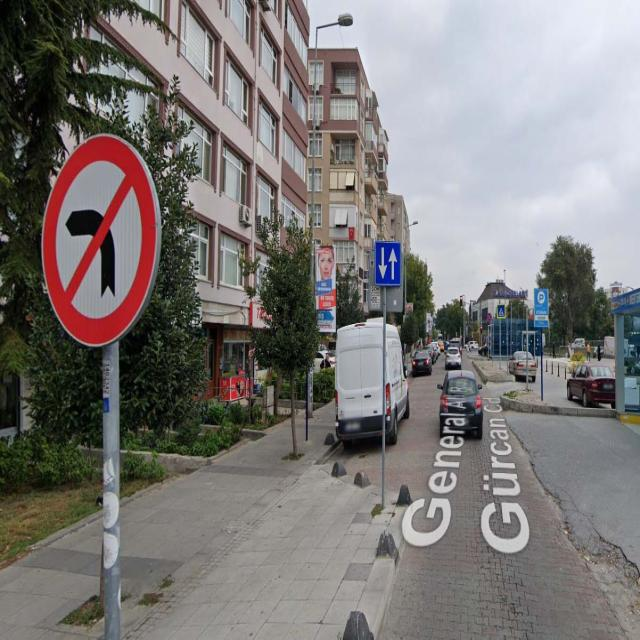soladonulmez: (42, 132, 158, 348)
